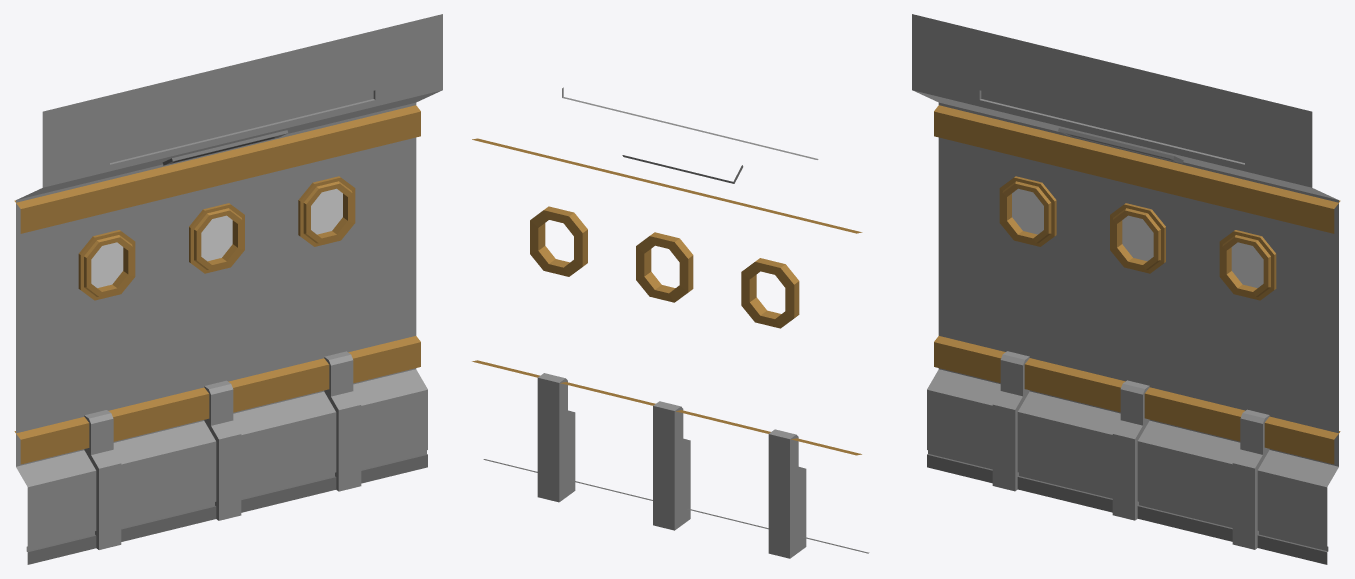
File: quaternius-modular-sci-fi-small-windows-wall-side-b.glb
3 views of the same model, side by side, from view 1: azimuth 30°, elevation 25°; view 2: azimuth 150°, elevation 25°; view 3: azimuth 330°, elevation 25° (orthographic). The views are drawn at different scales.
Visible parts, largest first — view 1: SmallWindows_Wall_SideB; view 2: SmallWindows_Wall_SideB; view 3: SmallWindows_Wall_SideB.
Boxes of the visible parts, x1=… form: SmallWindows_Wall_SideB: x1=14, y1=14, x2=442, y2=564; SmallWindows_Wall_SideB: x1=472, y1=87, x2=869, y2=558; SmallWindows_Wall_SideB: x1=912, y1=14, x2=1340, y2=564.
Size of the model in its own units: 4 by 4.43 by 0.5263.
